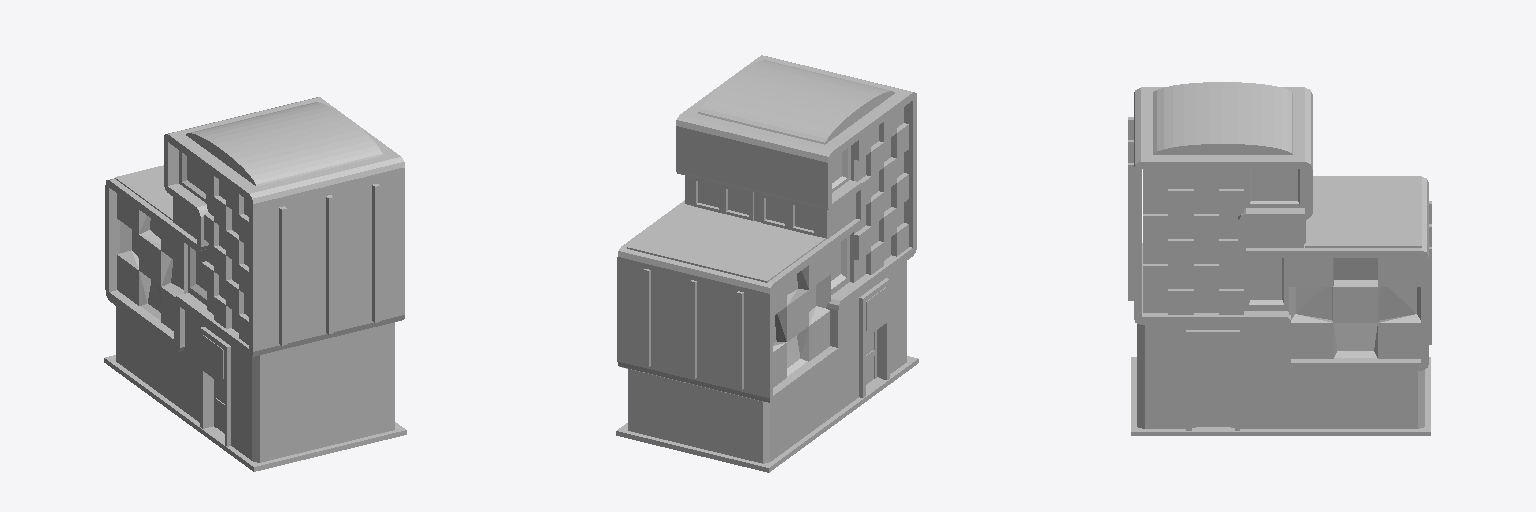
File: Building1.obj
3 renders of one model, left to right at view 1: azimuth 30°, elevation 25°; view 2: azimuth 150°, elevation 25°; view 3: azimuth 270°, elevation 25°, orthographic.
Parts seen in each view (by area): view 1: Buidling_Cylinder.001; view 2: Buidling_Cylinder.001; view 3: Buidling_Cylinder.001.
Boxes of the visible parts, <box> form: Buidling_Cylinder.001: <box>104,97,406,471</box>; Buidling_Cylinder.001: <box>616,55,918,472</box>; Buidling_Cylinder.001: <box>1128,82,1431,435</box>.
Size of the model in its own units: 0.514 by 0.9204 by 0.8882.